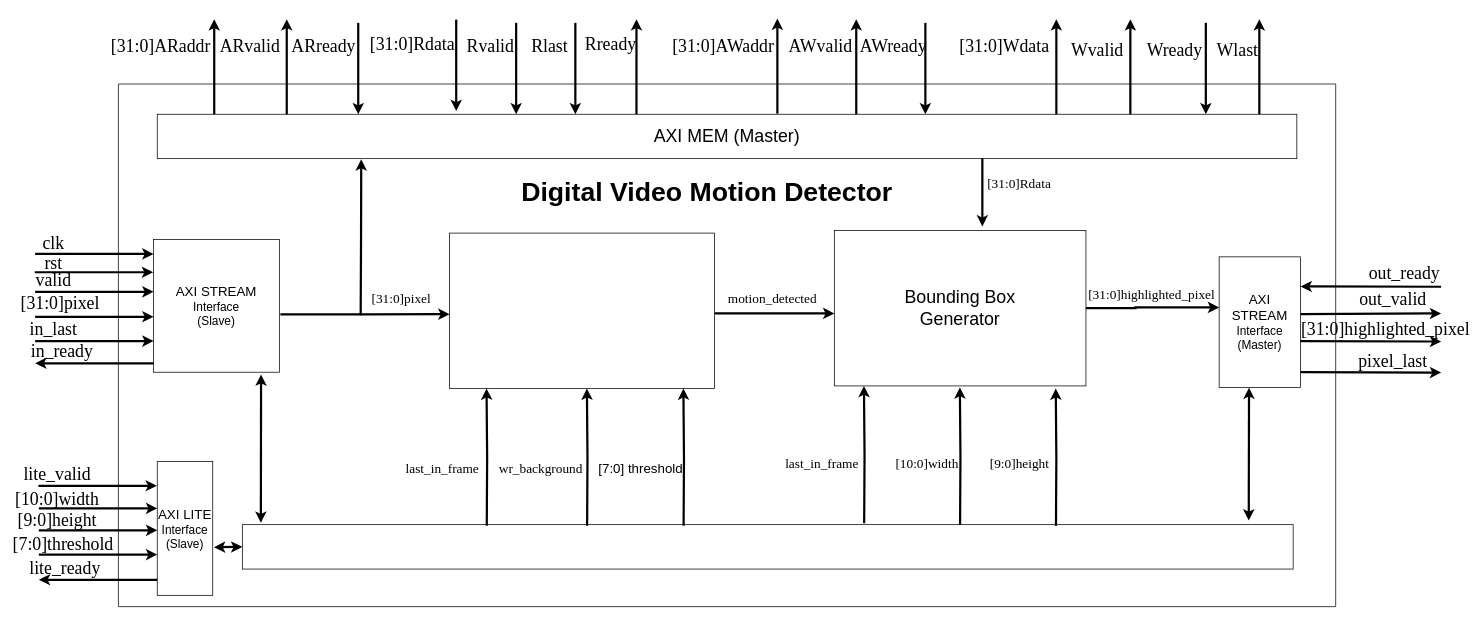
Image size: 1482x620. Some labels were removed from this diagram. Here are the shapes that lost their labels. From the top down, the centre of each, then its label:
At (x=581, y=310): "Motion Map Generator".
At (x=767, y=546): "Control".
